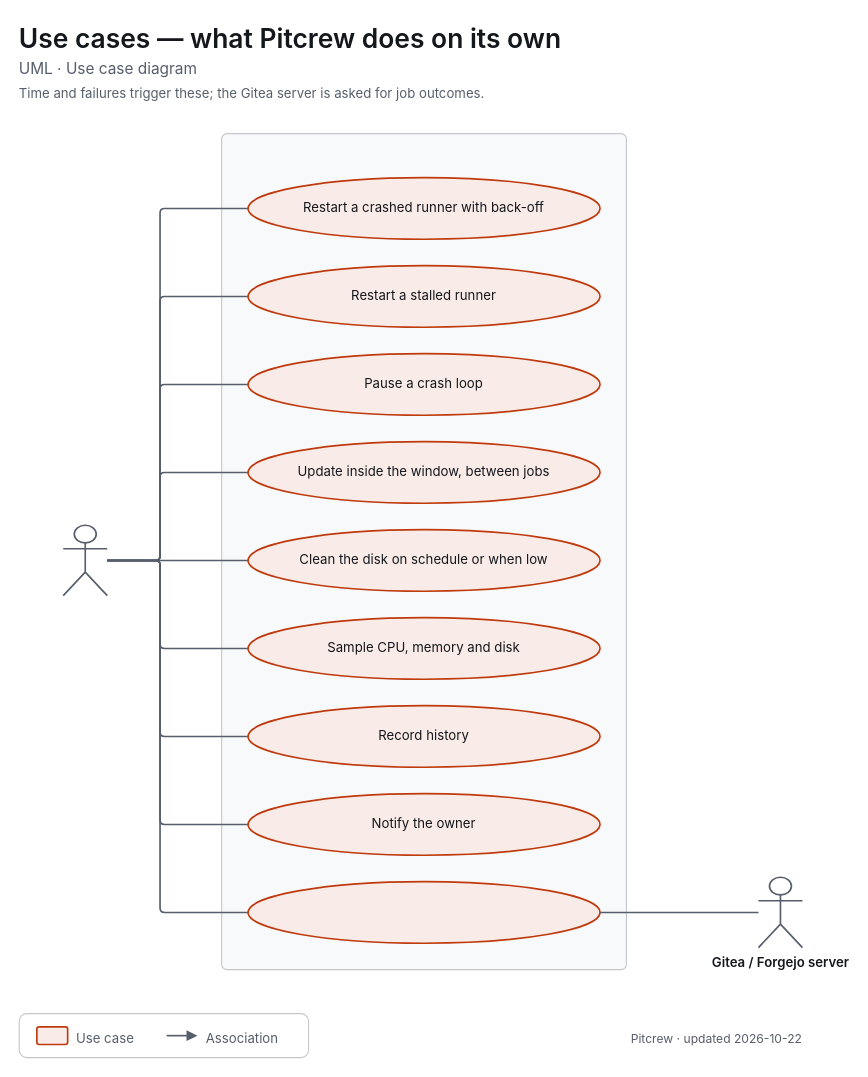
Image size: 868x1077. Some labels were removed from this diagram. The box of each missing label's shape, as (x1, y1, x2, y2) in pixels:
Pitcrew: (221, 133, 626, 970)
Read job outcomes: (247, 880, 600, 944)
Time and failures: (62, 524, 108, 596)
